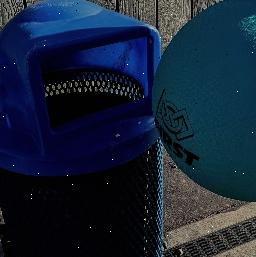algae: (148, 0, 256, 198)
